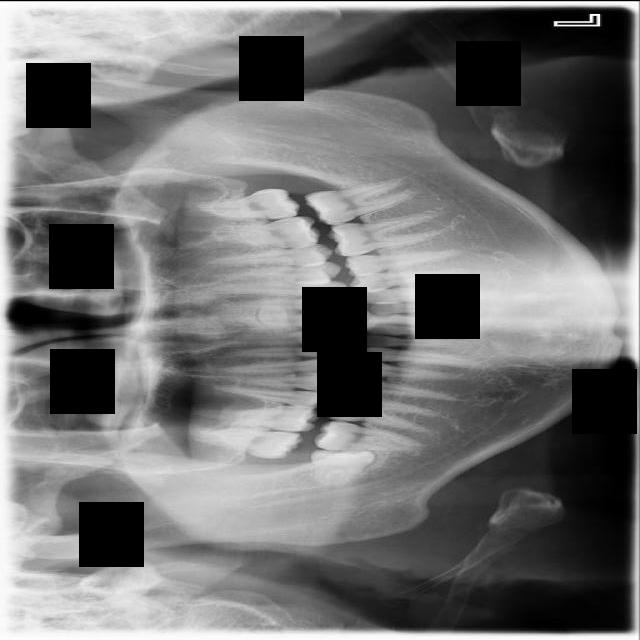73: (565, 20, 593, 24)
BioHorizons Implant: (184, 185, 300, 218)
Blue Sky Bio Implant: (305, 176, 417, 228)
Caries: (190, 422, 304, 461)
Implant: (314, 419, 423, 453)
Keystone Dental Implant: (310, 444, 376, 485)
